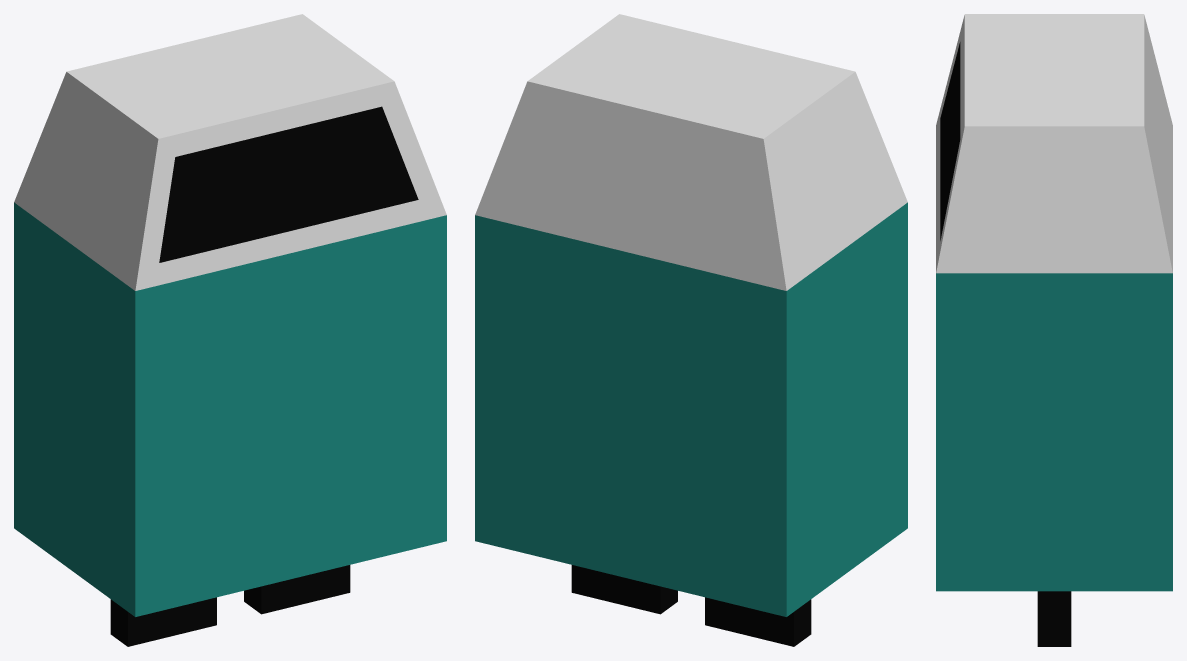
3 views of the same model, side by side, from view 1: azimuth 30°, elevation 25°; view 2: azimuth 150°, elevation 25°; view 3: azimuth 270°, elevation 25° (orthographic). The views are drawn at different scales.
Visible parts, largest first — view 1: Cube.003; view 2: Cube.003; view 3: Cube.003.
Part boxes in pixels (box(x1,y1,x2,y2)): Cube.003: box(14, 14, 446, 646); Cube.003: box(475, 14, 907, 646); Cube.003: box(936, 14, 1172, 646).
Bounding box in the file's own units: 200 × 329 × 135.
